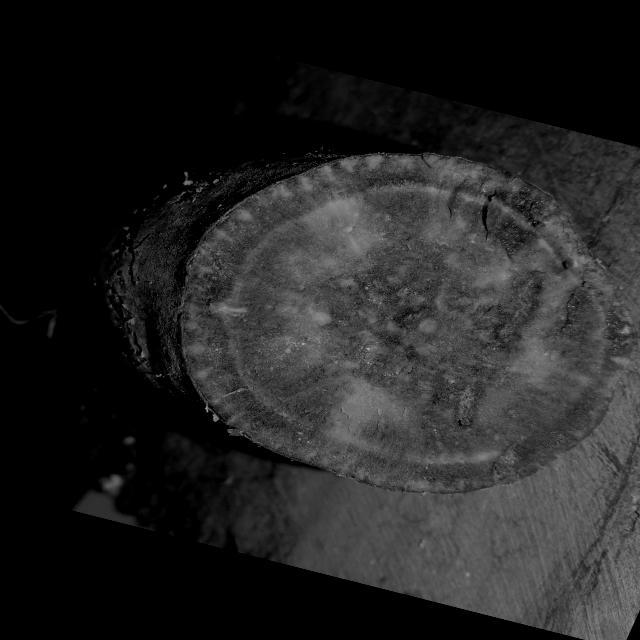Sick Sweet Potato_Tuber Rot: (183, 154, 637, 492)
